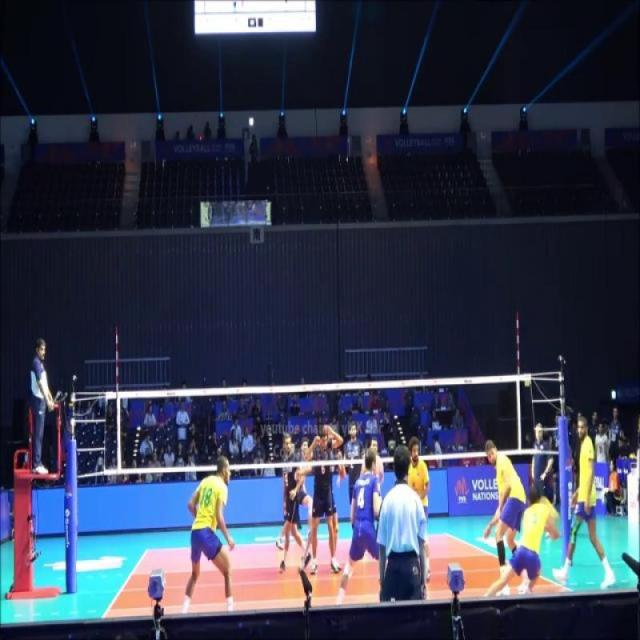volleyball: (538, 495, 561, 523)
